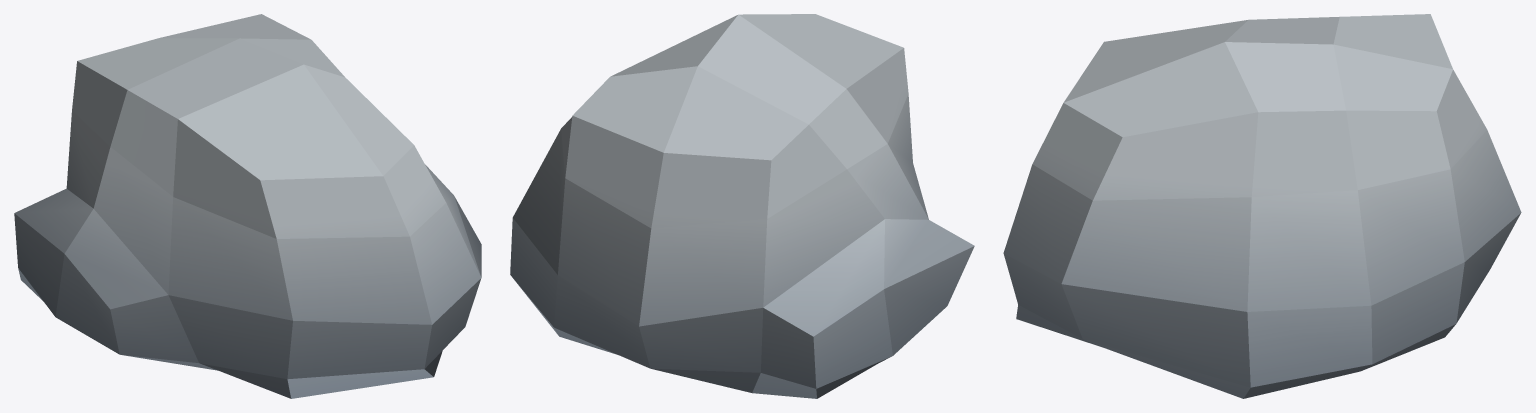
File: rock.glb
The picture shows the model from 3 angles, left to right: view 1: azimuth 30°, elevation 25°; view 2: azimuth 150°, elevation 25°; view 3: azimuth 270°, elevation 25°; orthographic projection. The views are drawn at different scales.
Parts seen in each view (by area): view 1: Rock Large; view 2: Rock Large; view 3: Rock Large.
Boxes of the visible parts, bbox=[...] form: Rock Large: bbox=[14, 14, 481, 398]; Rock Large: bbox=[510, 14, 974, 398]; Rock Large: bbox=[1003, 14, 1521, 398].
Size of the model in its own units: 7.14 by 4.23 by 7.6.
Materials: 1 (1 with a texture image).
